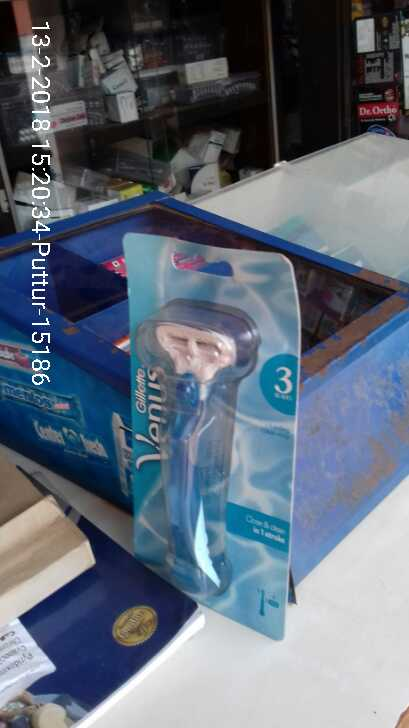venus: (123, 231, 293, 631)
